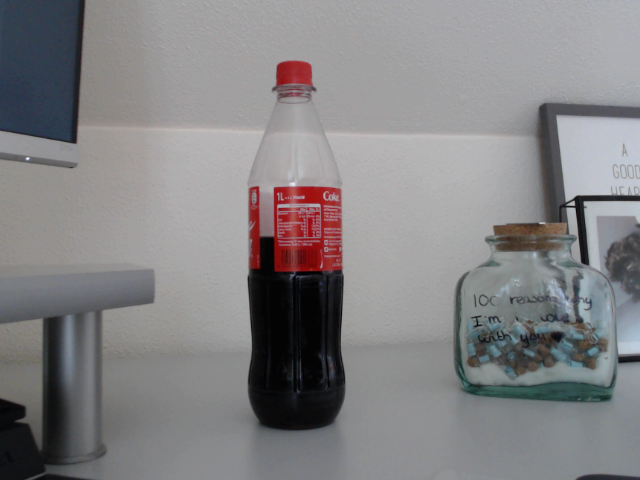bottle: (245, 59, 348, 433)
